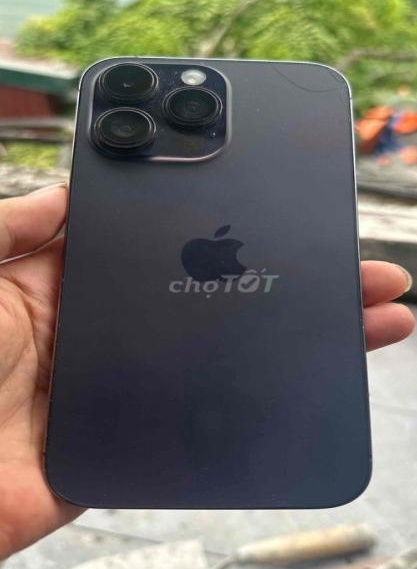physical_damage: (264, 54, 369, 128)
scratch: (159, 62, 213, 104), (151, 121, 194, 160)
